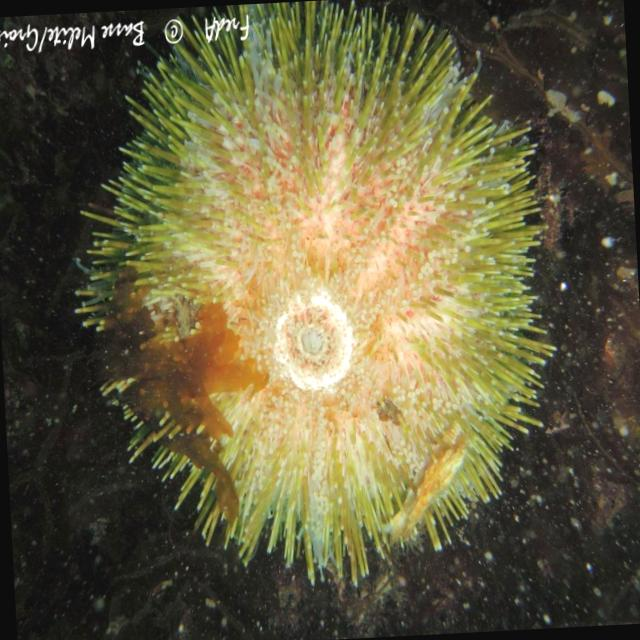Deniz Kestanesi: (57, 0, 565, 600)
